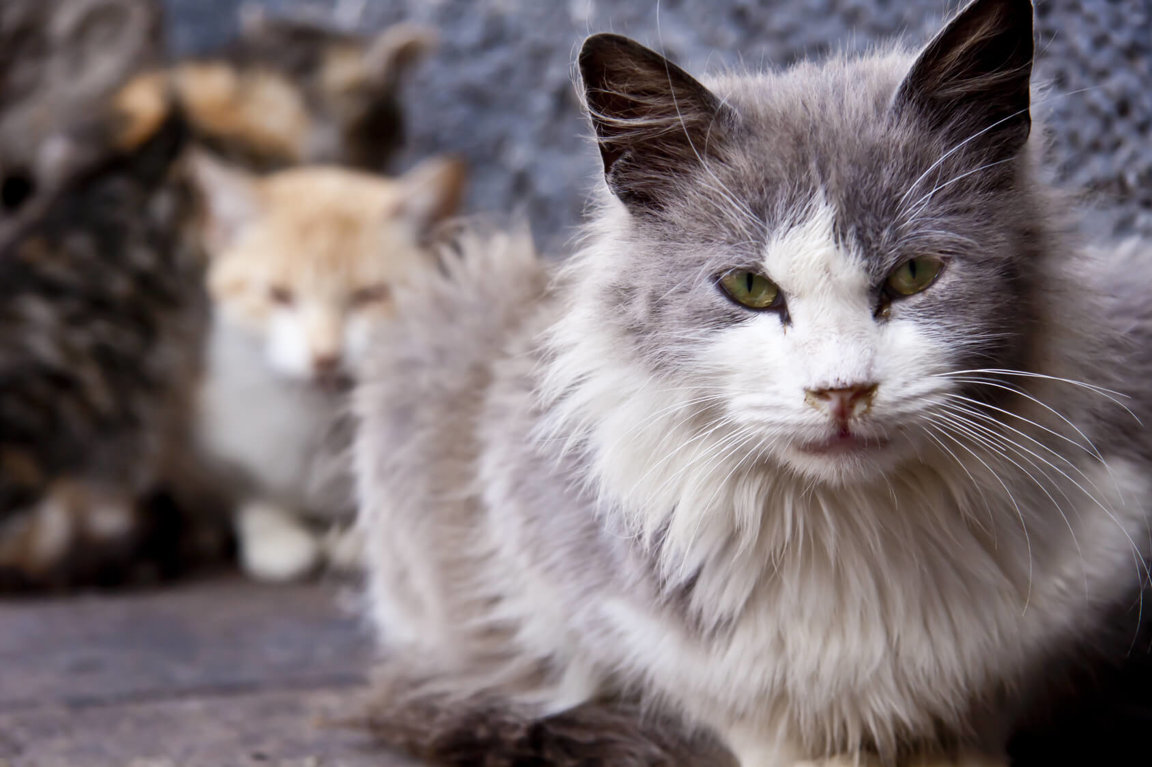Cat: (531, 3, 1093, 739)
